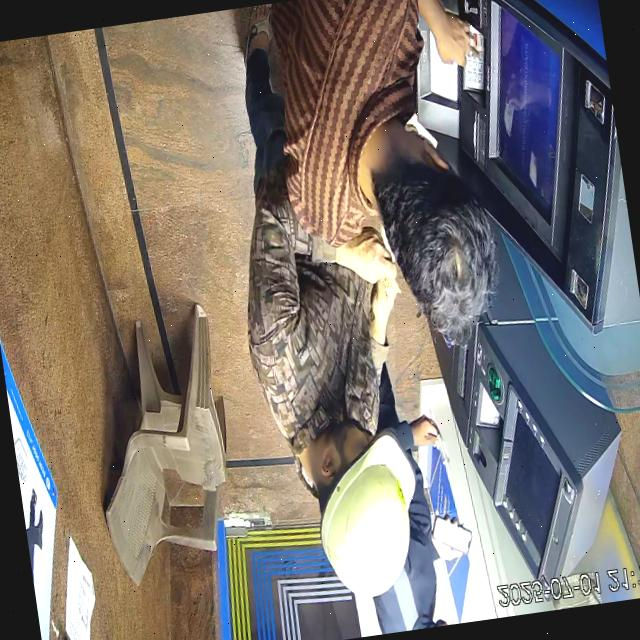helmet: (299, 419, 418, 598)
no_helmet: (359, 117, 501, 349)
